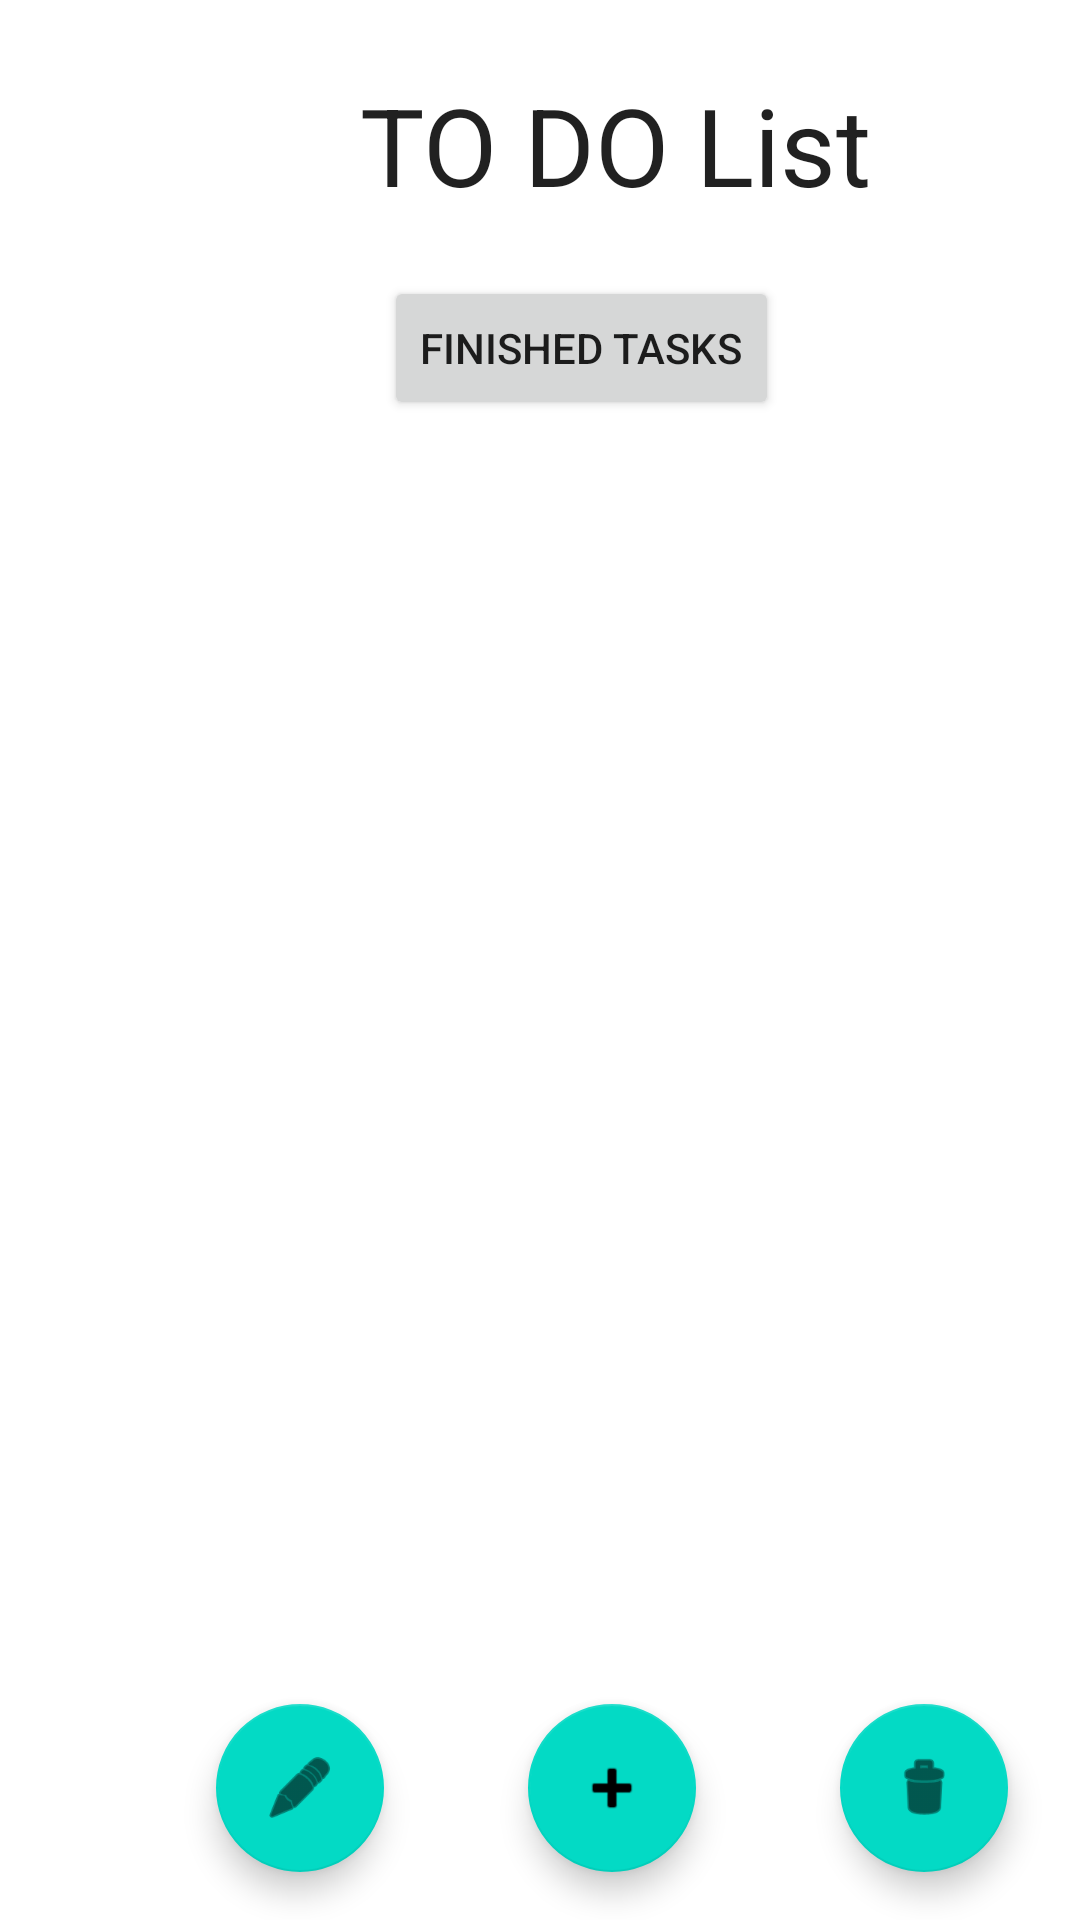

Icons on this 1080x1920 Android screen, each with the point to tap as point (x, y):
add: point (612, 1788)
delete: point (924, 1788)
edit: point (300, 1788)
